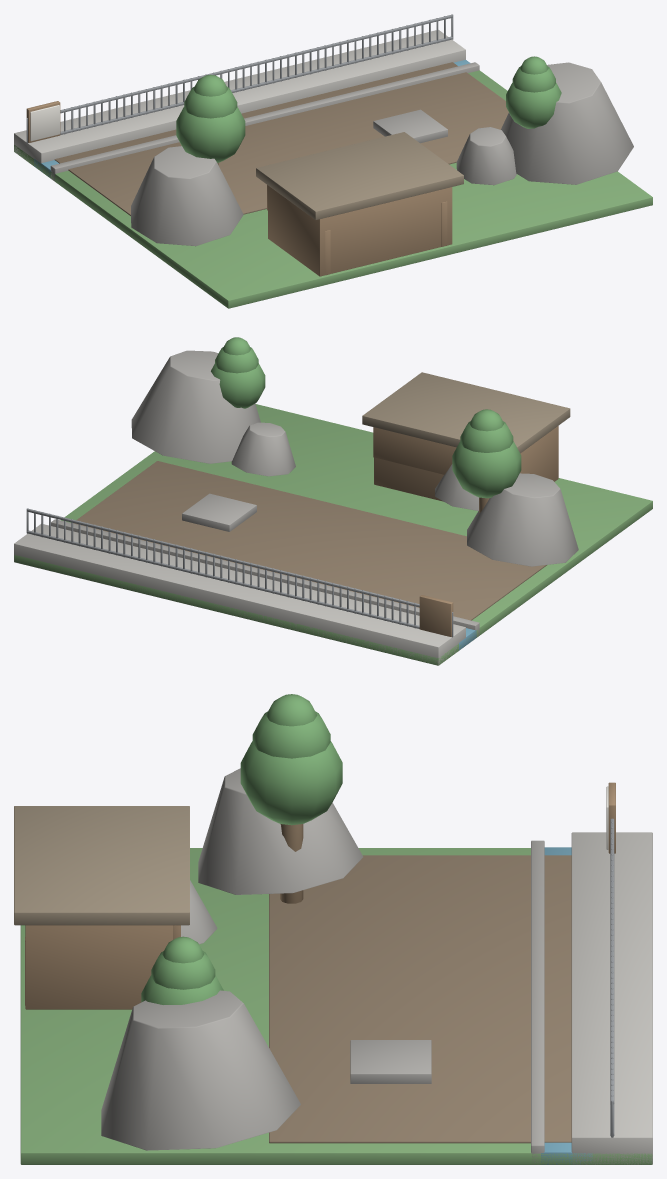
Rendered from th24_gehege.glb.
3 renders of one model, top to bottom at view 1: azimuth 30°, elevation 25°; view 2: azimuth 150°, elevation 25°; view 3: azimuth 270°, elevation 25°, orthographic. The views are drawn at different scales.
Visible parts, largest first — view 1: Cube, Cube.001, Cube.002, Cube.066, Cube.065, Cone.003, Cone, Cube.064, Sphere, Cone.002, Sphere.003, Cube.070 (+6 smaller); view 2: Cube.001, Cube, Cube.002, Cone.003, Cube.066, Cone, Cube.065, Cube.064, Sphere, Cone.002, Cube.067, Cube.070 (+8 smaller); view 3: Cube.001, Cube, Cube.002, Cone.003, Cube.066, Cone, Cube.065, Sphere, Cube.064, Cube.070, Sphere.001, Sphere.004 (+7 smaller).
Boxes of the visible parts, bbox=[...] form: Cube: bbox=[14, 70, 652, 308]; Cube.001: bbox=[54, 62, 508, 215]; Cube.002: bbox=[14, 30, 465, 164]; Cube.066: bbox=[256, 132, 463, 219]; Cube.065: bbox=[268, 185, 452, 276]; Cone.003: bbox=[501, 62, 633, 184]; Cone: bbox=[131, 146, 243, 246]; Cube.064: bbox=[50, 62, 479, 181]; Sphere: bbox=[176, 107, 245, 162]; Cone.002: bbox=[456, 127, 516, 185]; Sphere.003: bbox=[506, 83, 561, 128]; Cube.070: bbox=[373, 109, 447, 143]; Cube.001: bbox=[73, 461, 546, 620]; Cube: bbox=[14, 404, 652, 665]; Cube.002: bbox=[14, 524, 465, 665]; Cone.003: bbox=[131, 350, 260, 463]; Cube.066: bbox=[362, 372, 570, 453]; Cone: bbox=[467, 473, 578, 566]; Cube.065: bbox=[374, 426, 558, 501]; Cube.064: bbox=[51, 519, 479, 637]; Sphere: bbox=[452, 441, 521, 498]; Cone.002: bbox=[231, 422, 295, 476]; Cube.067: bbox=[373, 427, 456, 474]; Cube.070: bbox=[182, 493, 256, 531]; Cube.001: bbox=[269, 855, 571, 1143]; Cube: bbox=[20, 848, 652, 1164]; Cube.002: bbox=[571, 832, 652, 1164]; Cone.003: bbox=[101, 990, 300, 1150]; Cube.066: bbox=[14, 806, 189, 925]; Cone: bbox=[198, 768, 363, 894]; Cube.065: bbox=[25, 925, 175, 1009]; Sphere: bbox=[240, 741, 342, 825]; Cube.064: bbox=[531, 840, 544, 1164]; Cube.070: bbox=[350, 1040, 431, 1083]; Sphere.001: bbox=[252, 711, 330, 758]; Sphere.004: bbox=[151, 951, 215, 989].
Bounding box in the file's own units: 17.33 × 5.3 × 14.15.
